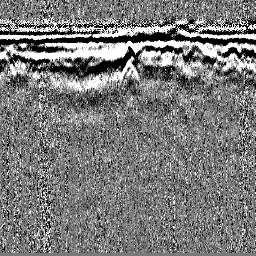cavity: (121, 39, 136, 62)
